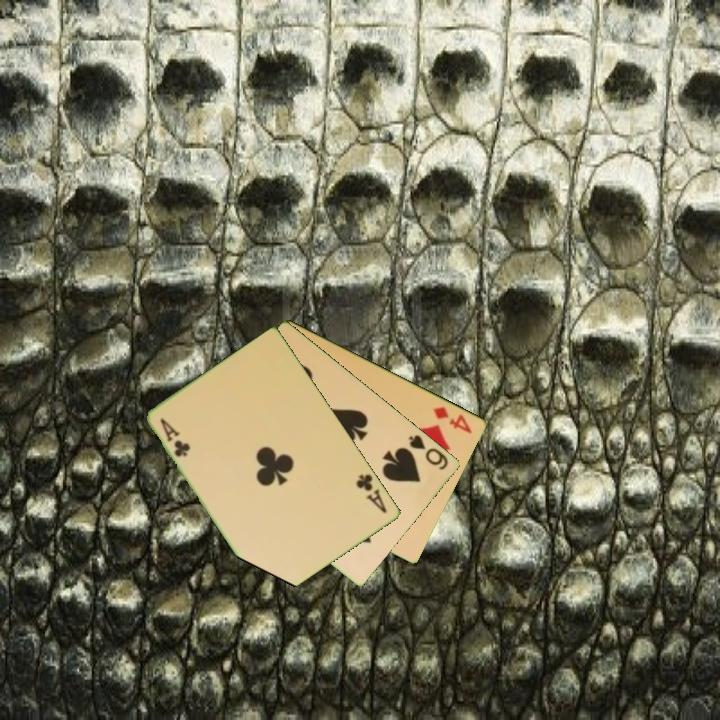4d: (430, 403, 475, 436)
6s: (406, 431, 452, 473)
Ac: (353, 470, 390, 516), (157, 415, 194, 460)
